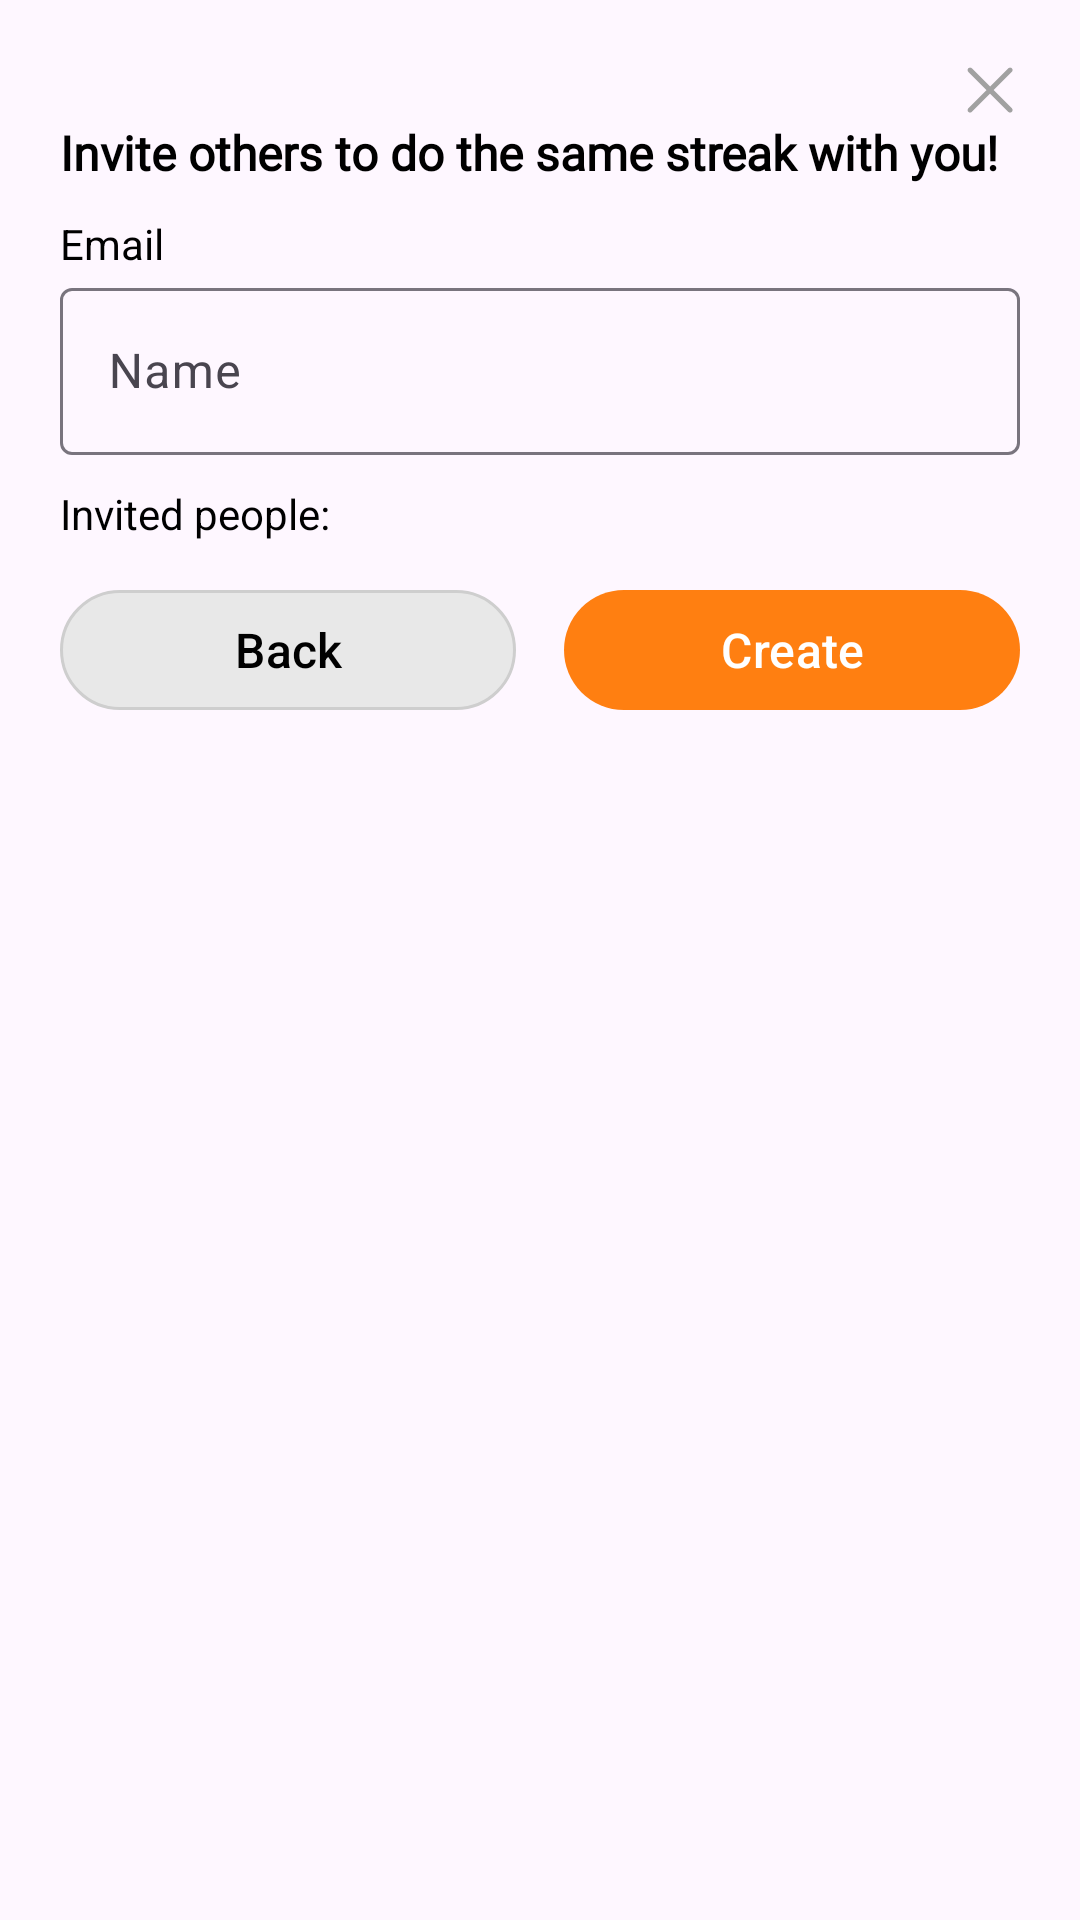

Named icons in this screenshot (1080x1920) and their bounding boxes, [x1=x1, y1=y1, x2=x2, y2=y2]:
close: [x1=967, y1=67, x2=1013, y2=113]
